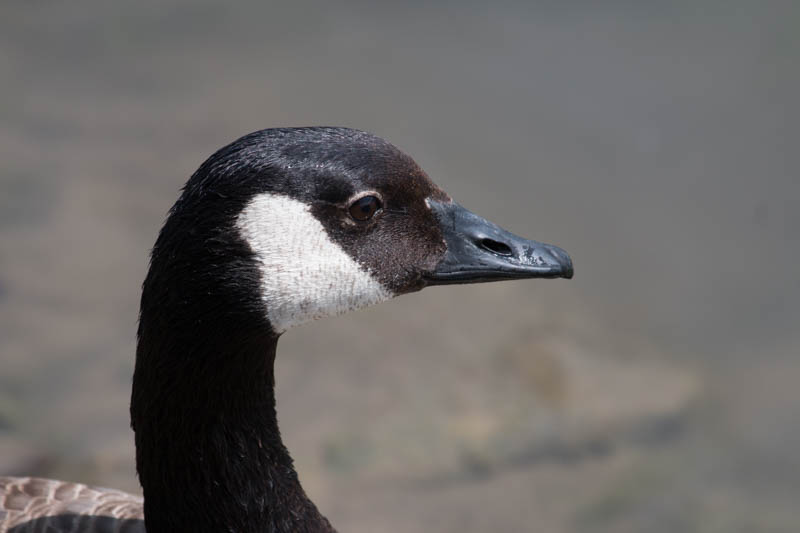goose-head: (140, 126, 575, 337)
